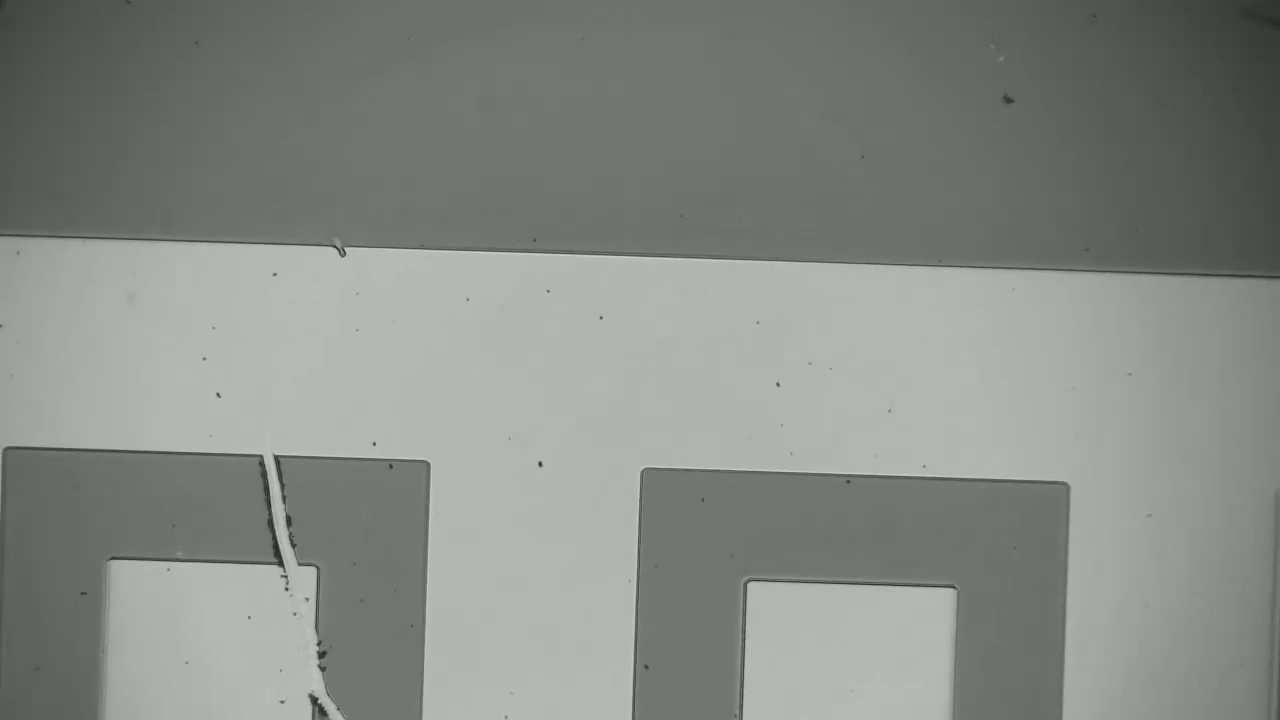Short_circuit: (235, 430, 303, 594)
